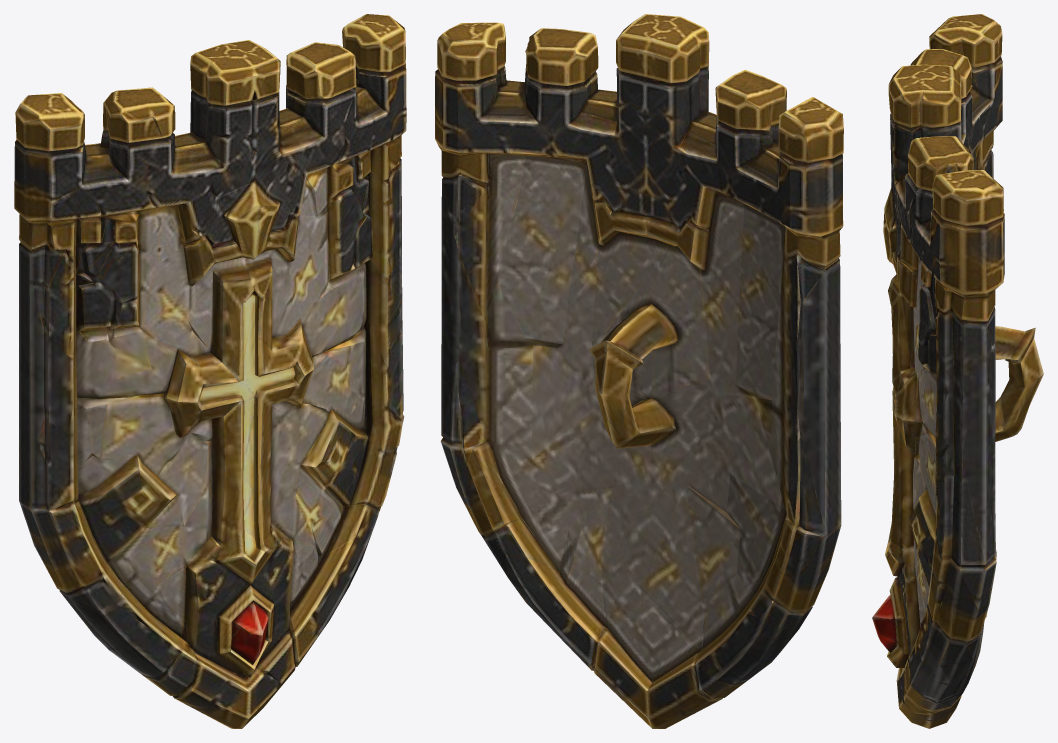
File: bulwark_shield.glb
The picture shows the model from 3 angles, left to right: view 1: azimuth 30°, elevation 25°; view 2: azimuth 150°, elevation 25°; view 3: azimuth 270°, elevation 25°; orthographic projection. The views are drawn at different scales.
Size of the model in its own units: 1.13 by 1.9 by 0.4526.
1 material, 1 textured.
